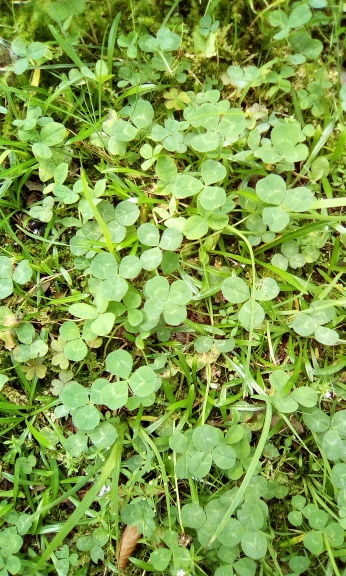4leaf: (144, 275, 192, 325)
